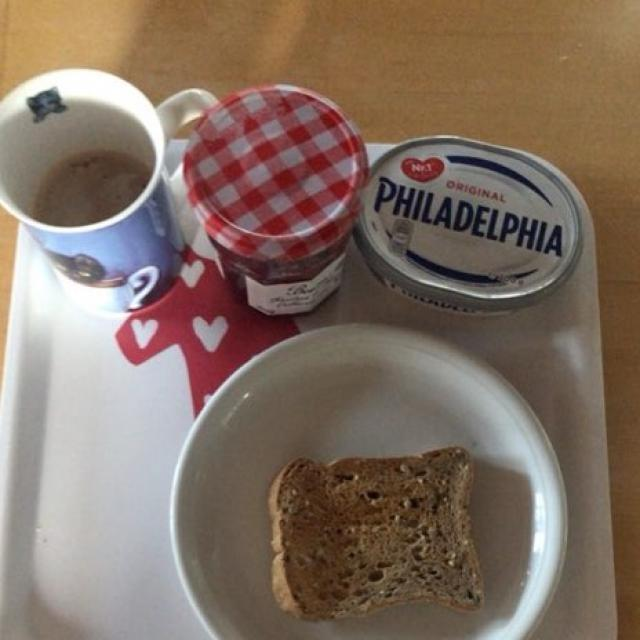bread: (274, 450, 481, 616)
coffee: (32, 148, 146, 223)
